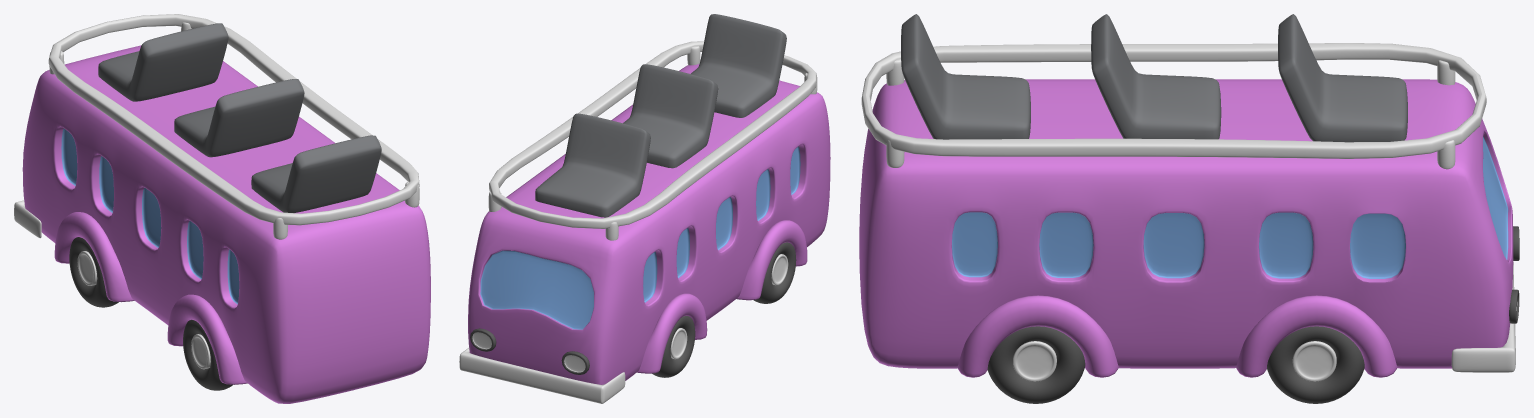
The model's file is BUSJAM.fbx.
3 views of the same model, side by side, from view 1: azimuth 30°, elevation 25°; view 2: azimuth 150°, elevation 25°; view 3: azimuth 270°, elevation 25° (orthographic). The views are drawn at different scales.
Parts seen in each view (by area): view 1: pTorus7, pCube10, pCube9, polySurface8; view 2: pTorus7, pCube10, pCube9, polySurface8; view 3: pTorus7, pCube10, pCube9, polySurface8.
Part boxes in pixels (left/top/right/bottom): pTorus7: left=22, top=45, right=430, bottom=403; pCube10: left=98, top=23, right=381, bottom=212; pCube9: left=14, top=14, right=419, bottom=239; polySurface8: left=69, top=237, right=232, bottom=390; pTorus7: left=468, top=64, right=830, bottom=384; pCube10: left=535, top=14, right=786, bottom=217; pCube9: left=459, top=41, right=817, bottom=403; polySurface8: left=652, top=242, right=796, bottom=377; pTorus7: left=859, top=79, right=1513, bottom=377; pCube10: left=901, top=14, right=1407, bottom=142; pCube9: left=861, top=43, right=1519, bottom=372; polySurface8: left=987, top=326, right=1364, bottom=403.
Size of the model in its own units: 7.34 by 9.92 by 18.45.
